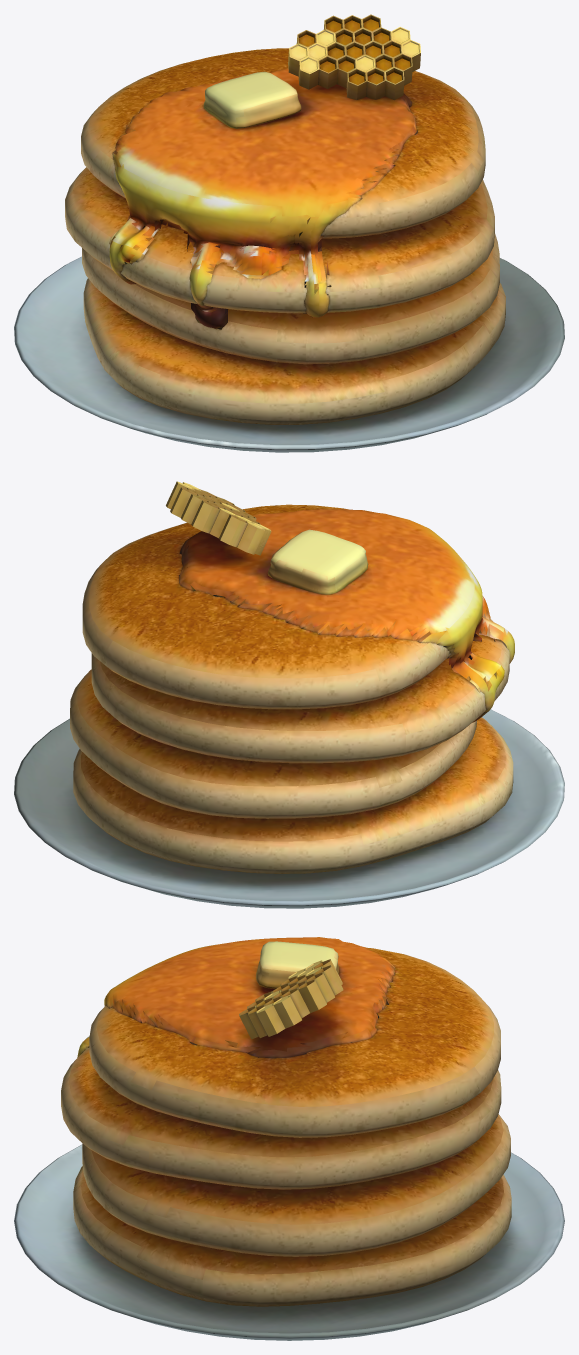
Rendered from pancake--honey-jam.glb.
3 views of the same model, one above another, from view 1: azimuth 30°, elevation 25°; view 2: azimuth 150°, elevation 25°; view 3: azimuth 270°, elevation 25° (orthographic).
Visible parts, largest first — view 1: pancake_honey-jam; view 2: pancake_honey-jam; view 3: pancake_honey-jam.
Boxes of the visible parts, x1=… form: pancake_honey-jam: x1=14, y1=14, x2=564, y2=452; pancake_honey-jam: x1=14, y1=481, x2=564, y2=908; pancake_honey-jam: x1=14, y1=937, x2=564, y2=1340.
Bounding box in the file's own units: 1.07 × 0.6666 × 1.07.
Materials: 1 (1 with a texture image).
